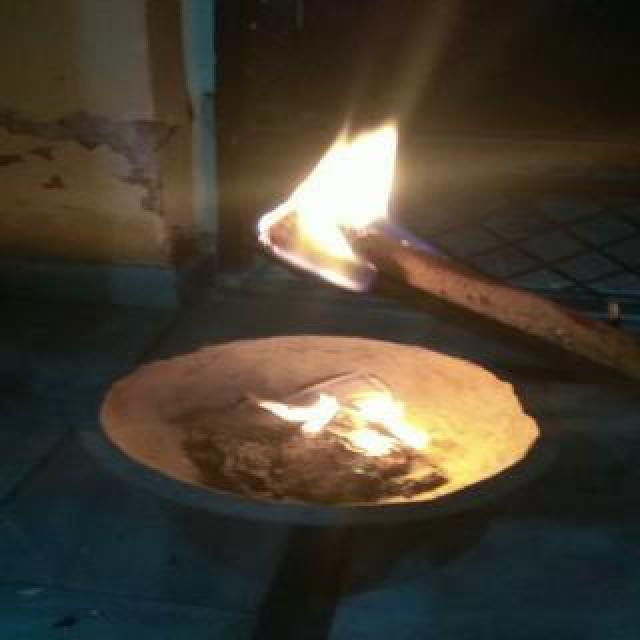Fire: (230, 82, 450, 288), (250, 388, 436, 456)
